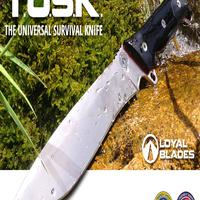knife: (32, 5, 171, 199)
